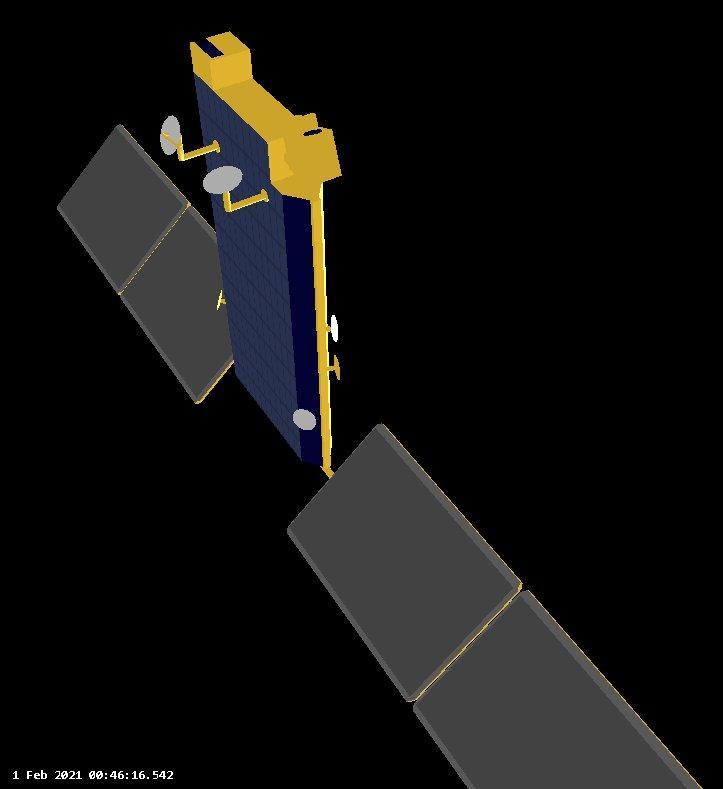antenna: (200, 163, 244, 197), (157, 112, 186, 157), (289, 404, 320, 433), (327, 308, 343, 343), (329, 349, 343, 385), (212, 285, 228, 310)
body: (188, 23, 345, 468)
solar: (279, 414, 708, 789), (49, 115, 256, 408)
